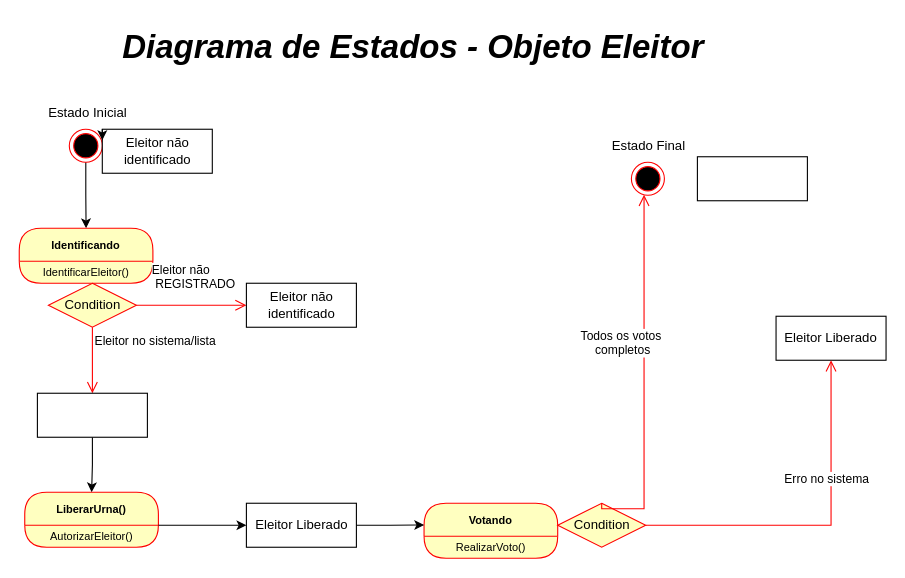
Some shapes in this 905 by 578 pixel diagram are drawn without their labels. The shapes that lost their labels are listed below. From the top down, each one's centre as x and y in pixels, then its label:
At [751,178]: "Eleitor Impossibilitado de votar".
At [91,414]: "Eleitor Identificado não liberado".
